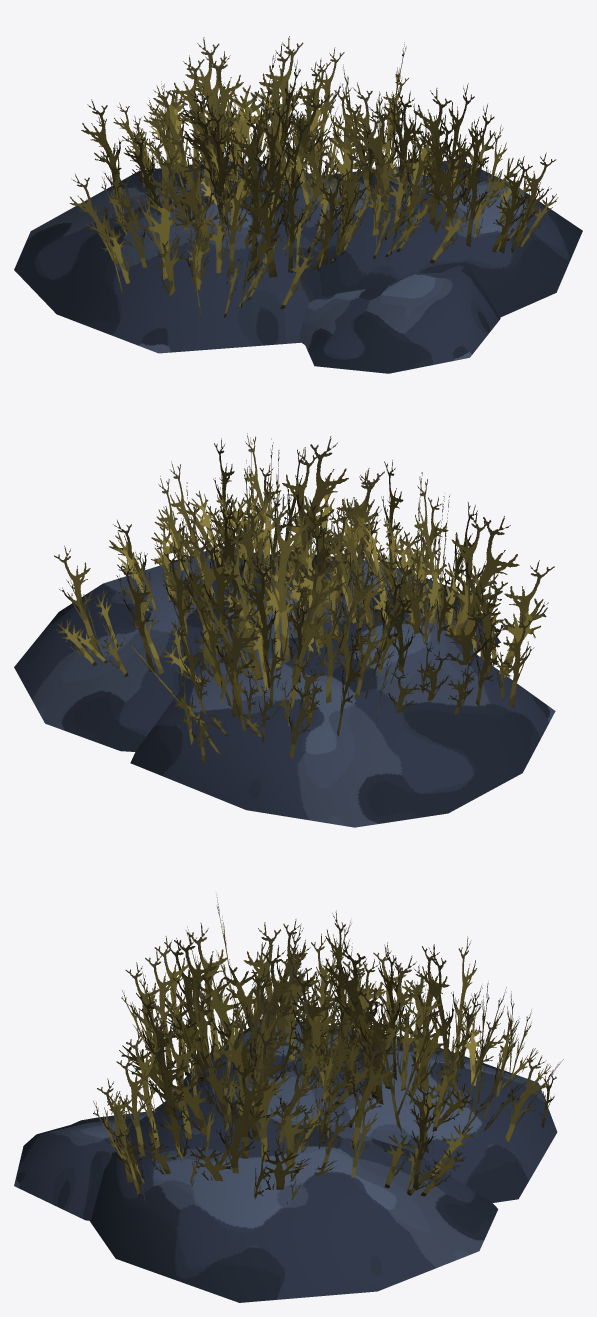
File: Staghorn Coral 3_preview_3DS_simplified.glb
The picture shows the model from 3 angles, top to bottom: view 1: azimuth 30°, elevation 25°; view 2: azimuth 150°, elevation 25°; view 3: azimuth 270°, elevation 25°; orthographic projection. The views are drawn at different scales.
Visible parts, largest first — view 1: Marine Park Empire model; view 2: Marine Park Empire model; view 3: Marine Park Empire model.
Part boxes in pixels (<box>): Marine Park Empire model: <box>14,36,582,373</box>; Marine Park Empire model: <box>14,433,555,827</box>; Marine Park Empire model: <box>14,897,563,1302</box>.
Bounding box in the file's own units: 114 × 53.43 × 107.
Materials: 2 (2 with a texture image).
